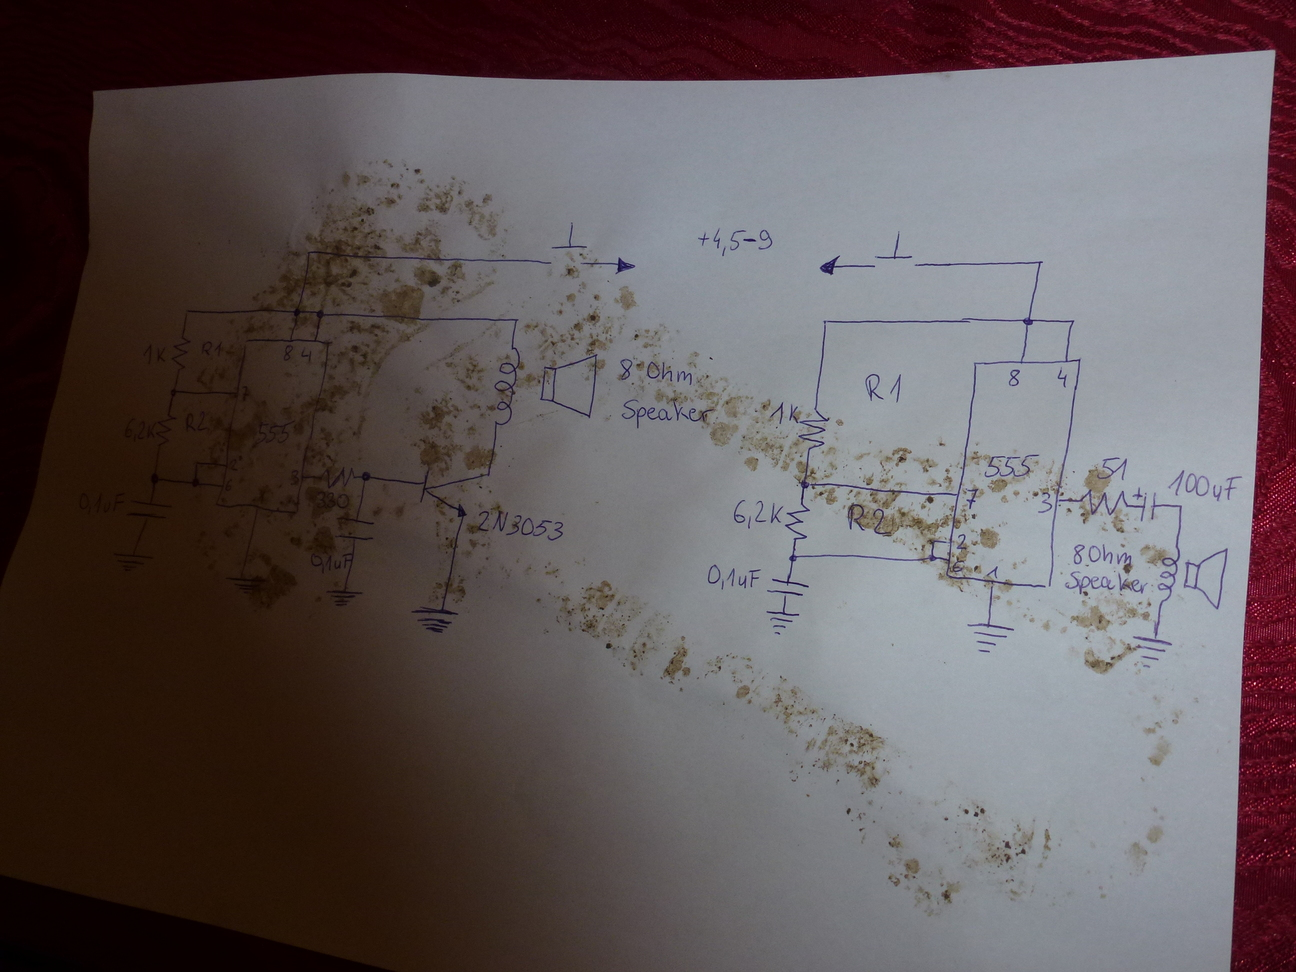capacitor.polarized: (1133, 486, 1157, 522)
capacitor.unpolarized: (334, 514, 379, 542), (765, 575, 811, 599), (127, 498, 170, 523)
gnd: (964, 618, 1016, 655), (1129, 633, 1174, 671), (408, 605, 461, 635), (763, 603, 802, 637), (222, 574, 268, 598), (110, 548, 153, 573), (325, 587, 365, 609)
integrated_circuit: (943, 357, 1082, 591), (212, 336, 334, 517)
junction: (796, 474, 814, 488), (290, 306, 306, 322), (357, 469, 373, 483), (785, 550, 801, 564), (148, 471, 161, 484), (311, 308, 327, 320), (818, 315, 832, 328), (191, 476, 203, 489), (1021, 315, 1034, 327), (167, 386, 179, 397), (1033, 257, 1045, 268), (193, 458, 205, 469), (923, 554, 936, 564), (305, 247, 315, 258), (929, 537, 939, 547), (509, 315, 521, 324), (1066, 317, 1077, 326), (1175, 502, 1184, 511), (183, 307, 191, 315)
resistor: (797, 405, 830, 452), (1077, 488, 1129, 517), (780, 501, 810, 544), (317, 465, 356, 490), (152, 412, 178, 448), (170, 337, 189, 372)
speaker: (489, 345, 598, 428), (1153, 543, 1230, 612)
switch: (867, 228, 923, 273), (542, 220, 592, 268)
text: (469, 505, 567, 541), (618, 395, 714, 431), (1166, 468, 1243, 502), (616, 357, 696, 388), (696, 226, 775, 256), (1063, 570, 1148, 596), (841, 502, 894, 537), (983, 452, 1042, 483), (729, 499, 785, 530), (704, 563, 761, 592), (1071, 540, 1133, 567), (861, 372, 905, 405), (255, 417, 297, 446), (76, 490, 123, 515), (308, 549, 353, 575), (1095, 455, 1130, 482), (122, 418, 159, 441), (767, 401, 801, 426), (315, 490, 352, 512), (958, 485, 981, 518), (183, 409, 211, 435), (198, 338, 231, 359), (1036, 490, 1054, 515), (278, 343, 296, 364), (1055, 366, 1071, 388), (287, 531, 305, 550), (300, 345, 318, 364), (234, 383, 250, 403), (1007, 366, 1023, 387), (955, 532, 969, 552), (985, 564, 1001, 580), (951, 558, 966, 574), (255, 489, 269, 505), (223, 477, 237, 494), (290, 467, 301, 487), (228, 457, 241, 473)
transistor: (417, 466, 494, 519)
vss: (816, 253, 843, 278), (613, 254, 637, 277)
